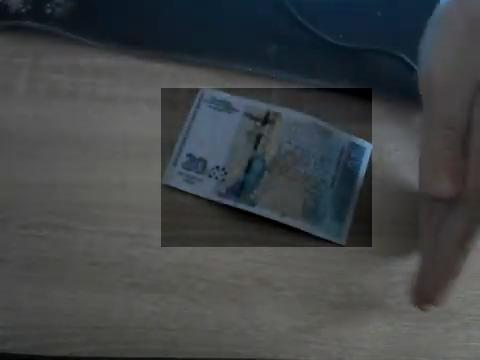20leva: (161, 88, 372, 247)
